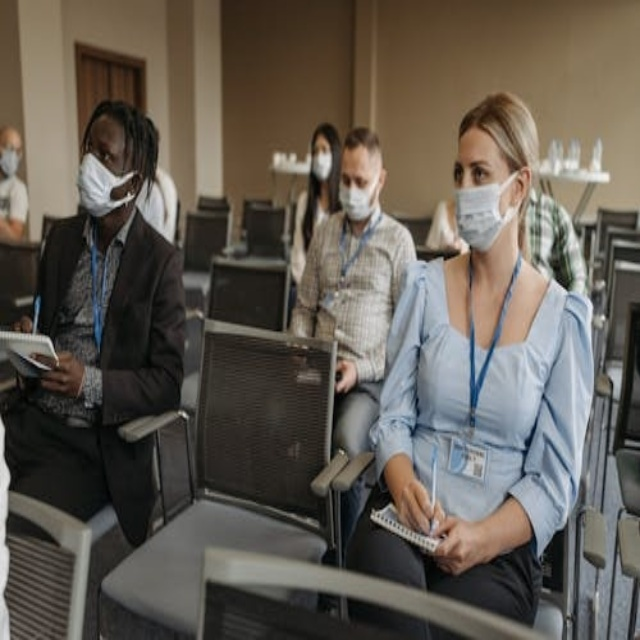Mascara: (454, 172, 522, 250), (76, 151, 139, 216), (338, 176, 379, 221), (312, 150, 333, 180), (0, 147, 20, 177)
Sin_gafas: (85, 138, 128, 168), (339, 172, 377, 189), (473, 168, 488, 182), (454, 165, 463, 184)
Sin_guantes: (429, 508, 490, 575), (395, 475, 448, 540), (30, 346, 79, 396)
